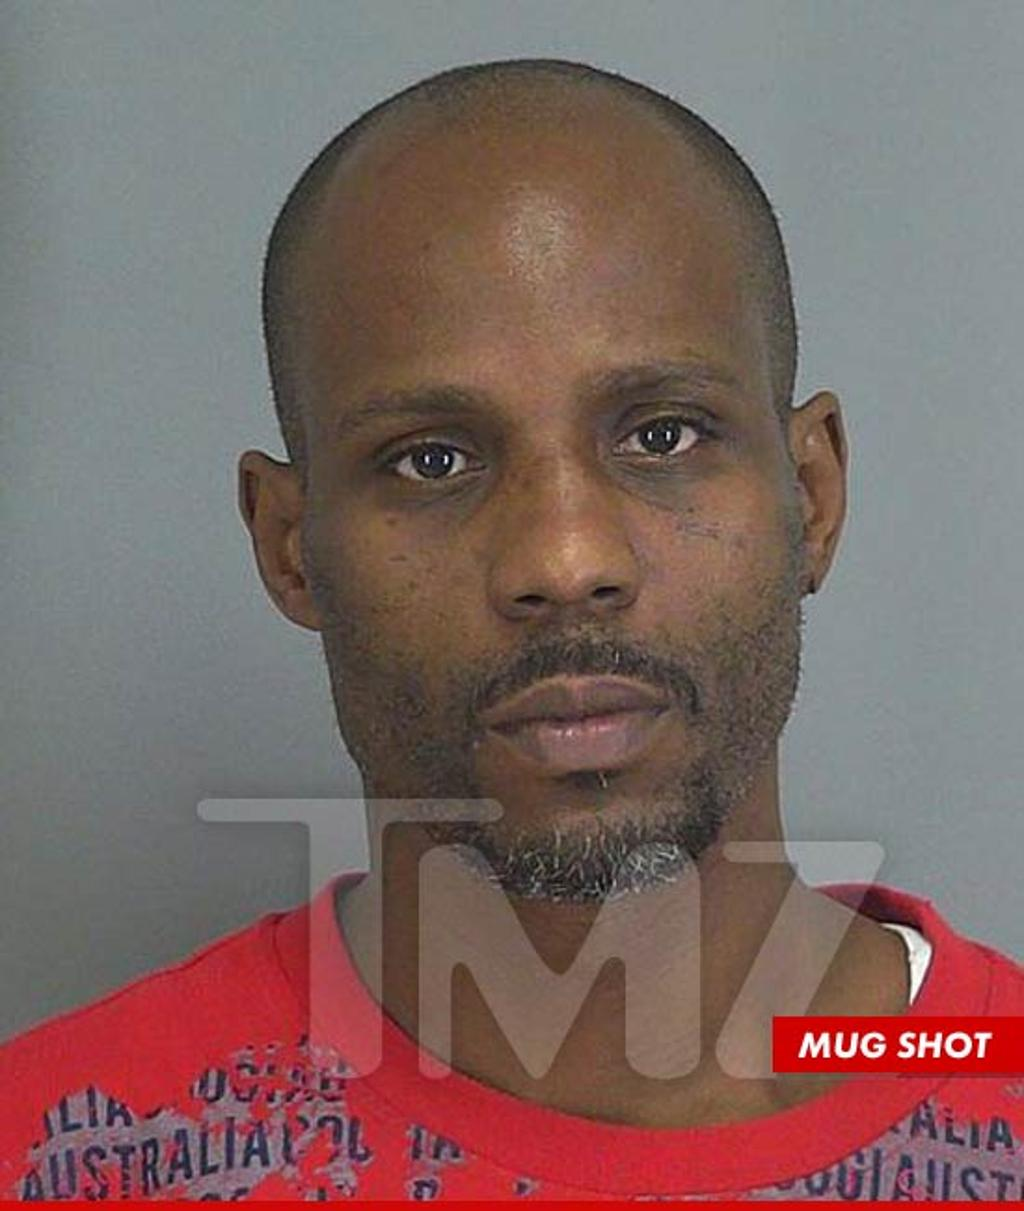face: (298, 135, 804, 878)
